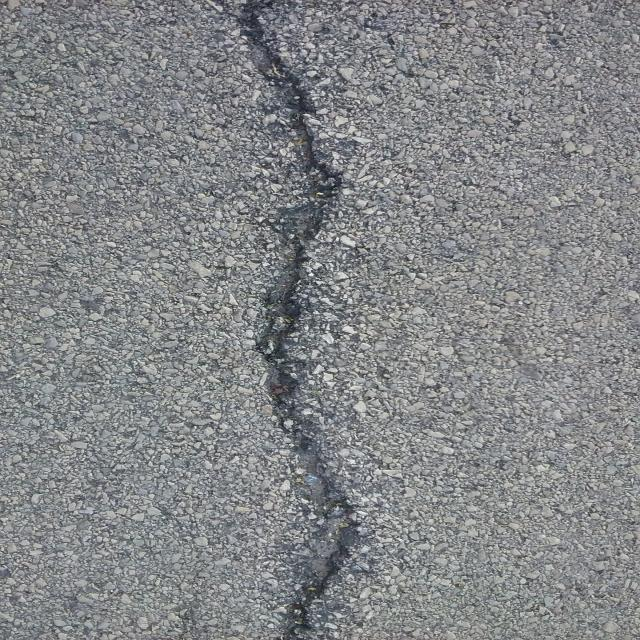Longitudial: (176, 0, 444, 640)
